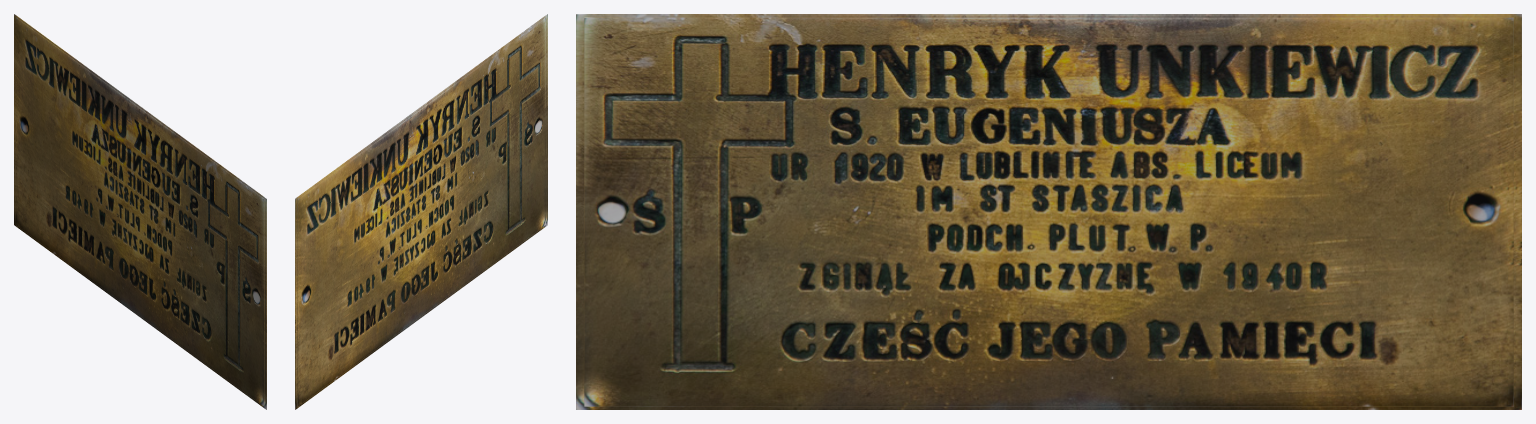
File: 101. Ś.P. HENRYK UNKIEWICZ.glb
3 views of the same model, side by side, from view 1: azimuth 30°, elevation 25°; view 2: azimuth 150°, elevation 25°; view 3: azimuth 270°, elevation 25° (orthographic). The views are drawn at different scales.
Visible parts, largest first — view 1: Plane; view 2: Plane; view 3: Plane.
Part boxes in pixels (bbox=[...]): Plane: bbox=[14, 14, 266, 409]; Plane: bbox=[295, 14, 547, 409]; Plane: bbox=[576, 14, 1521, 409].
Bounding box in the file's own units: 0.0246 × 6 × 13.
1 material, 1 textured.
